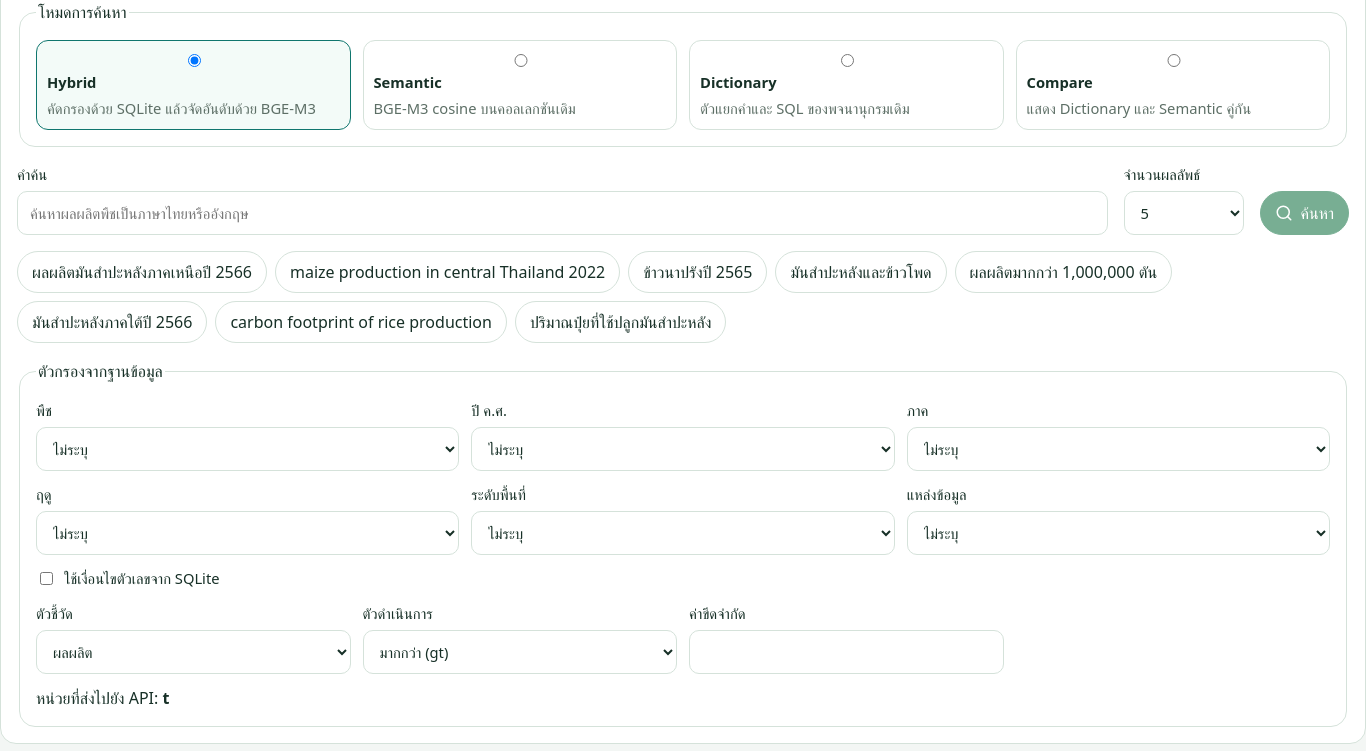
Test: frontend › T19 shows missing quantities as unavailable
Type "มันสำปะหลัง" into the field labelled "คำค้น" at (562, 213), box [17,191,1108,235]
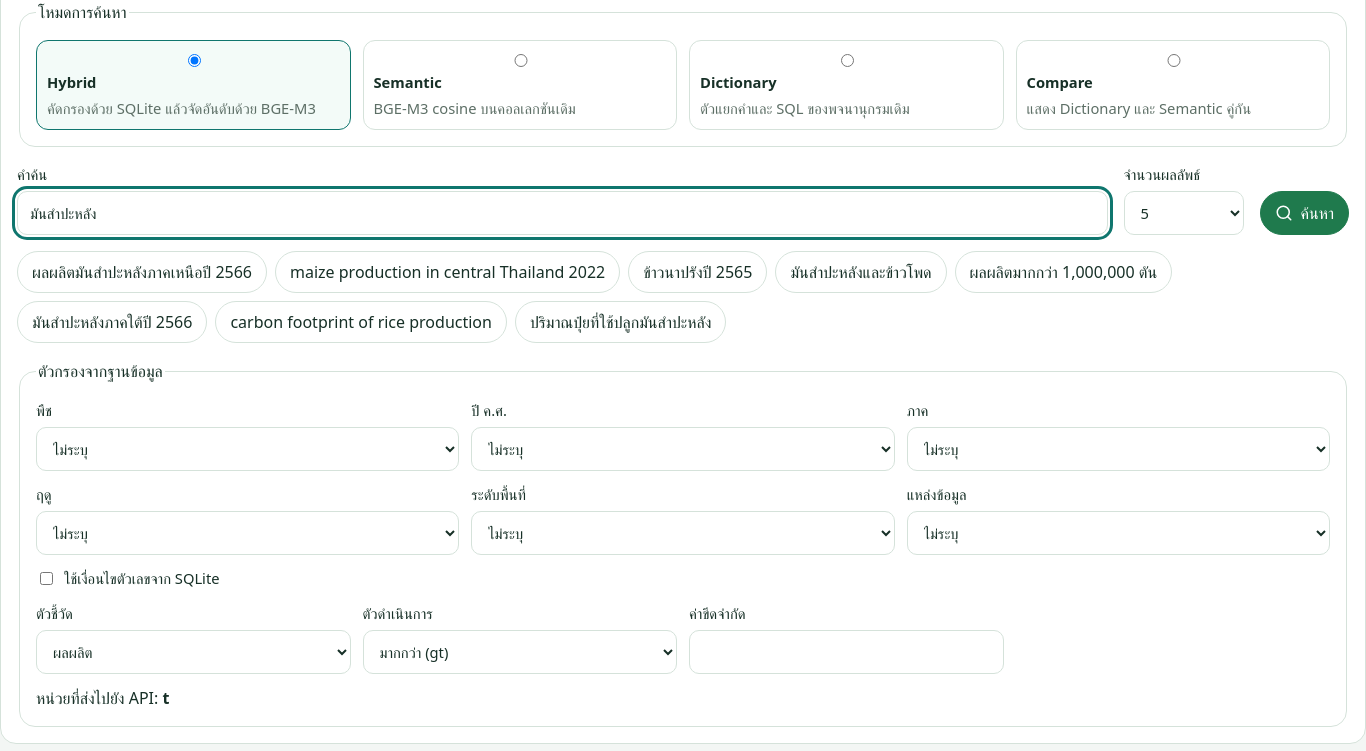
Click the button "ค้นหา" at (1304, 213), box [1260,191,1349,235]
(page scrolled)
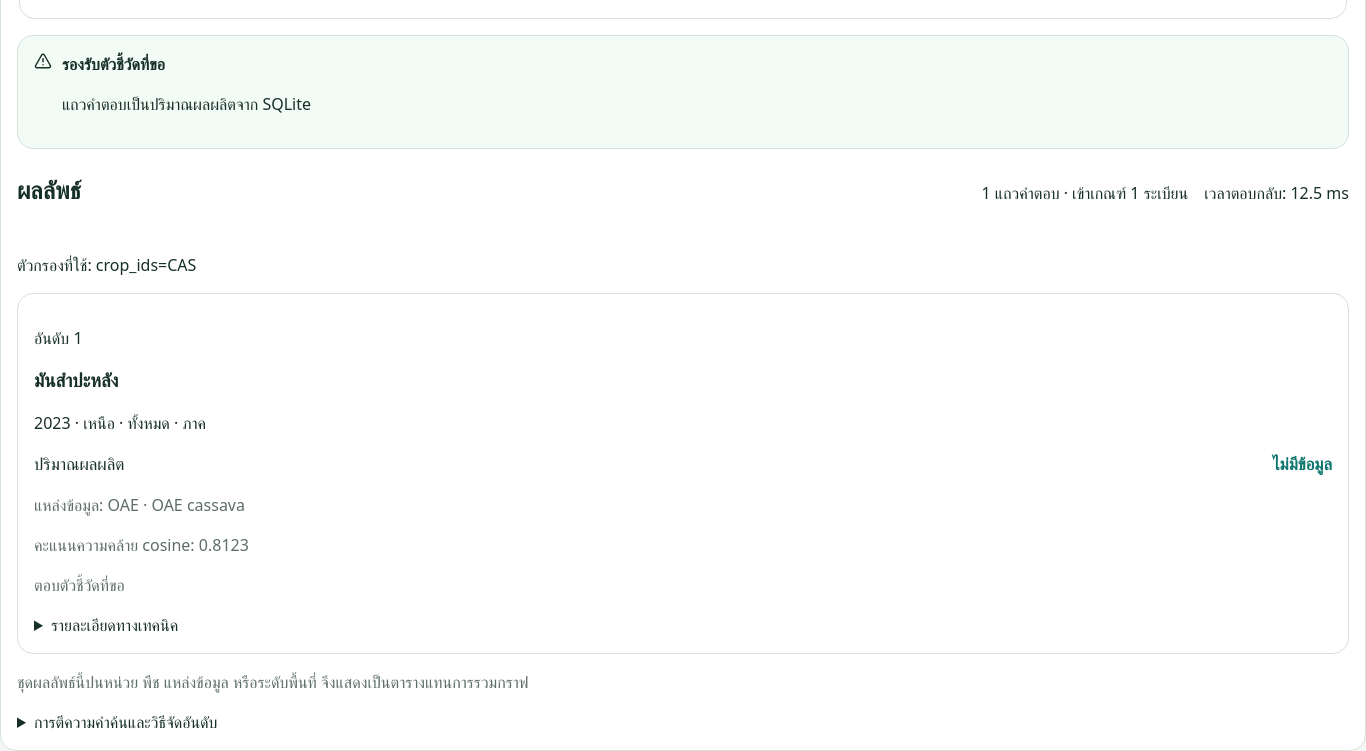
Now the text "ไม่มีข้อมูล" is shown, box [1272,451,1332,476]
